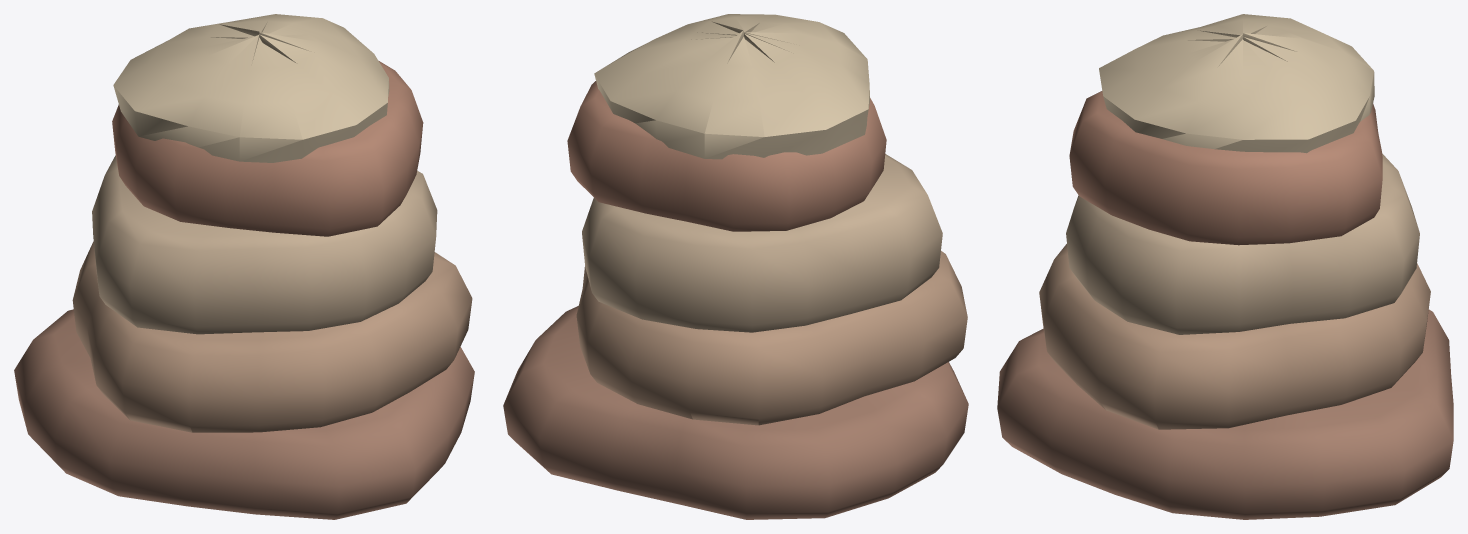
The model's file is cen_tarhut_rocha_2.glb.
3 renders of one model, left to right at view 1: azimuth 30°, elevation 25°; view 2: azimuth 150°, elevation 25°; view 3: azimuth 270°, elevation 25°, orthographic.
Visible parts, largest first — view 1: rocha; view 2: rocha; view 3: rocha.
Boxes of the visible parts, bbox=[...] form: rocha: bbox=[14, 14, 474, 519]; rocha: bbox=[503, 14, 968, 519]; rocha: bbox=[997, 14, 1453, 519].
Size of the model in its own units: 1.64 by 1.56 by 1.62.
